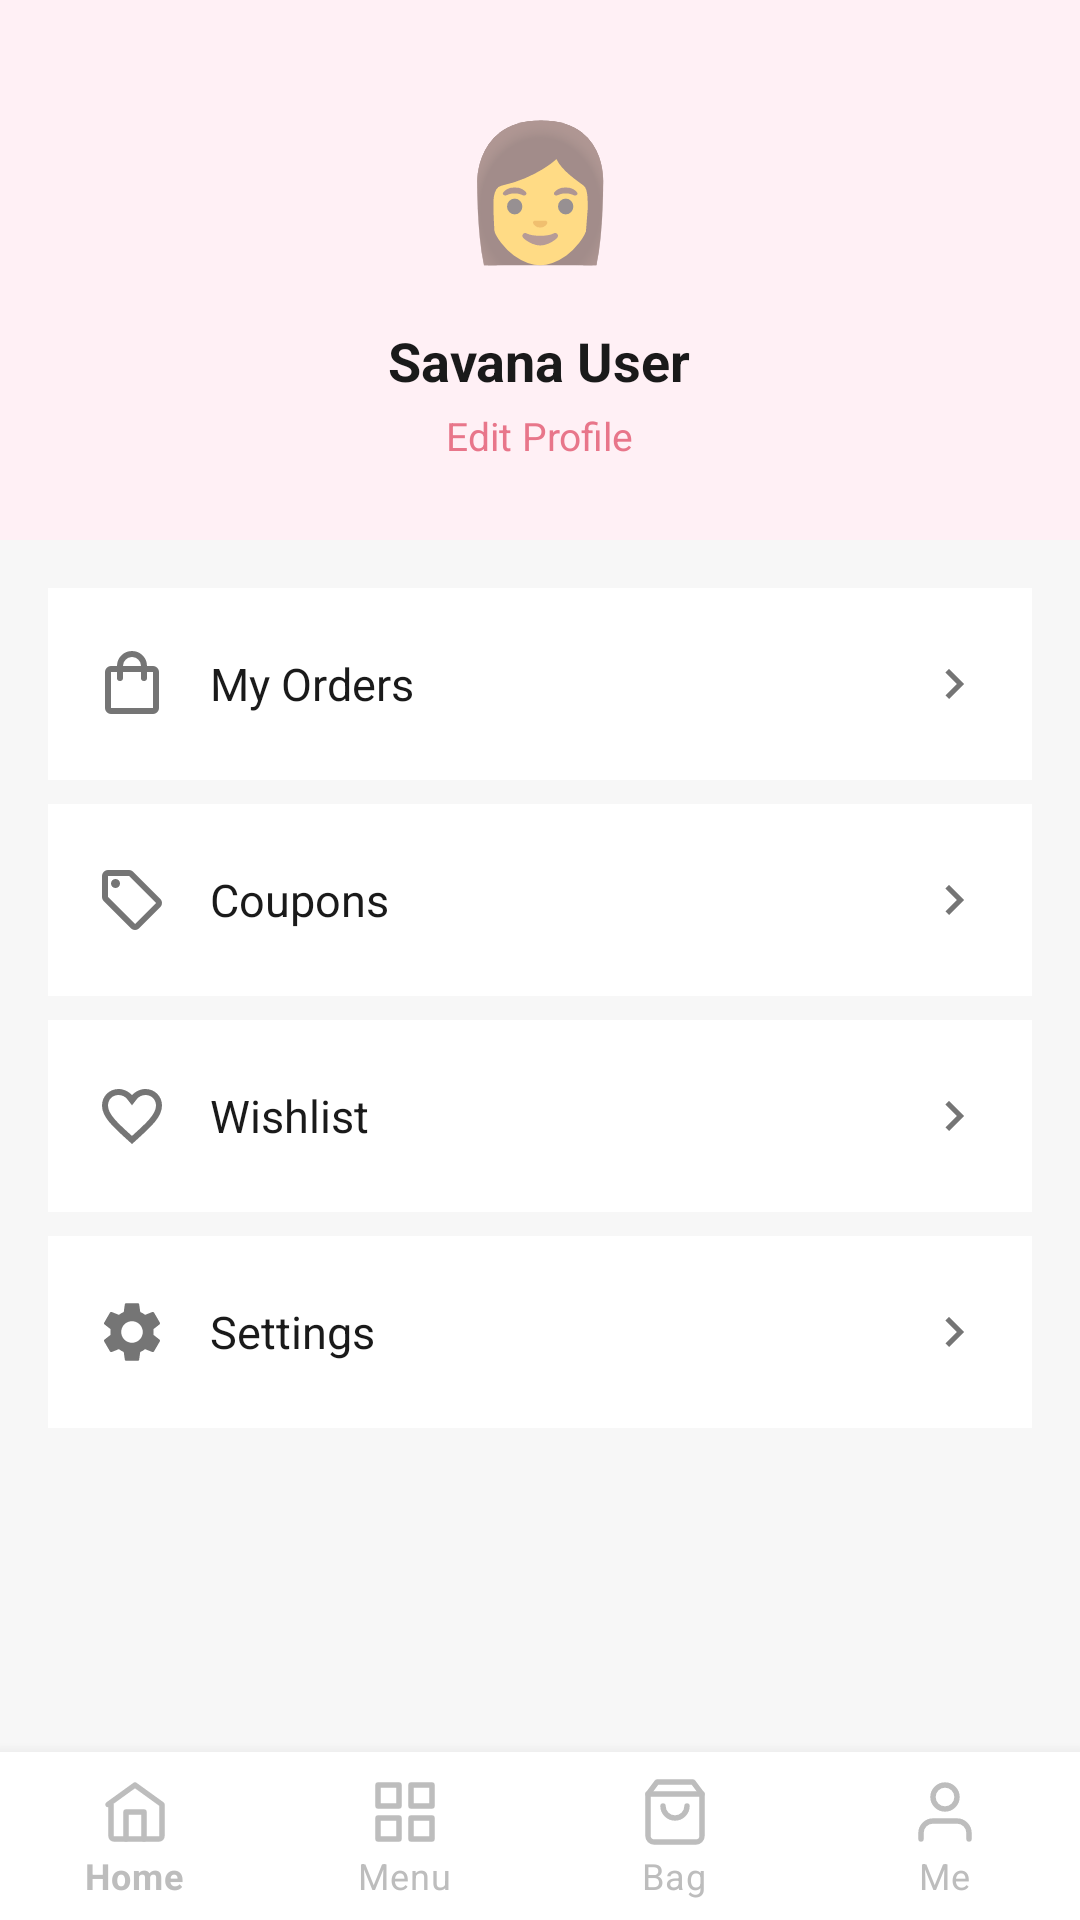

Locate icon controls on the screen. Image size 1080×1920, boxes as (x1, y1, x2, y2).
chevron right: (945, 669, 964, 699), (945, 885, 964, 915), (945, 1101, 964, 1131), (945, 1317, 964, 1347)
